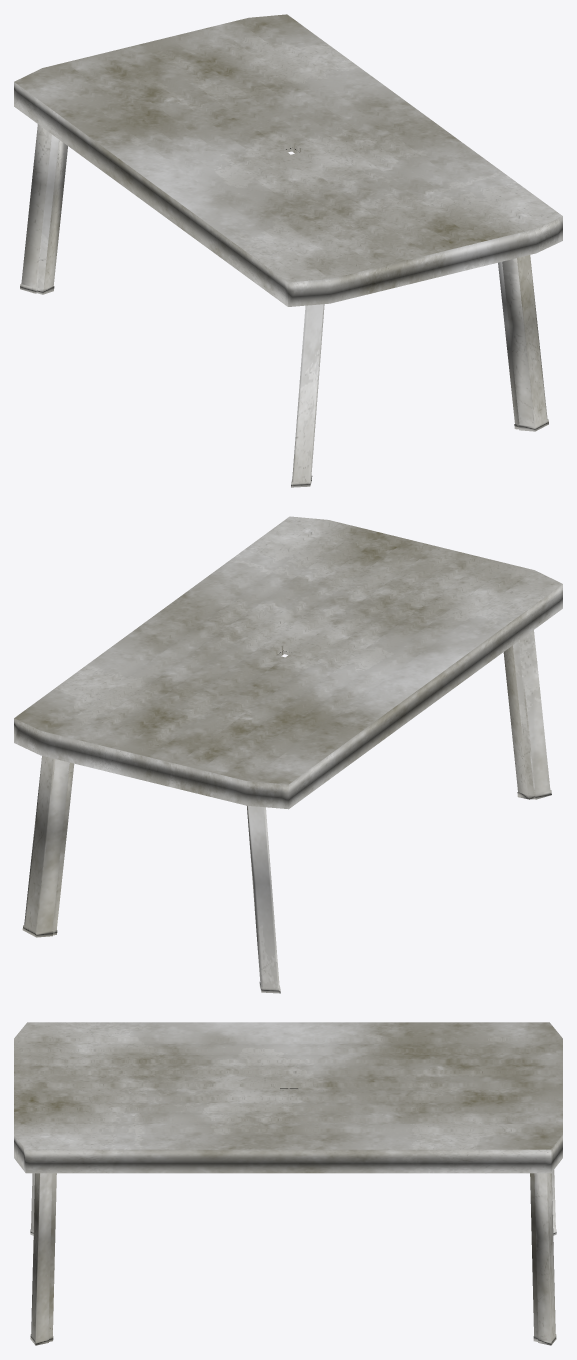
File: Table.fbx
3 renders of one model, top to bottom at view 1: azimuth 30°, elevation 25°; view 2: azimuth 150°, elevation 25°; view 3: azimuth 270°, elevation 25°, orthographic. The views are drawn at different scales.
Parts seen in each view (by area): view 1: Cube.002; view 2: Cube.002; view 3: Cube.002.
Part boxes in pixels (x1,y1,x2,y2): Cube.002: [14, 14, 562, 487]; Cube.002: [14, 516, 562, 993]; Cube.002: [14, 1022, 562, 1345].
Bounding box in the file's own units: 3214 × 2388 × 5850.
